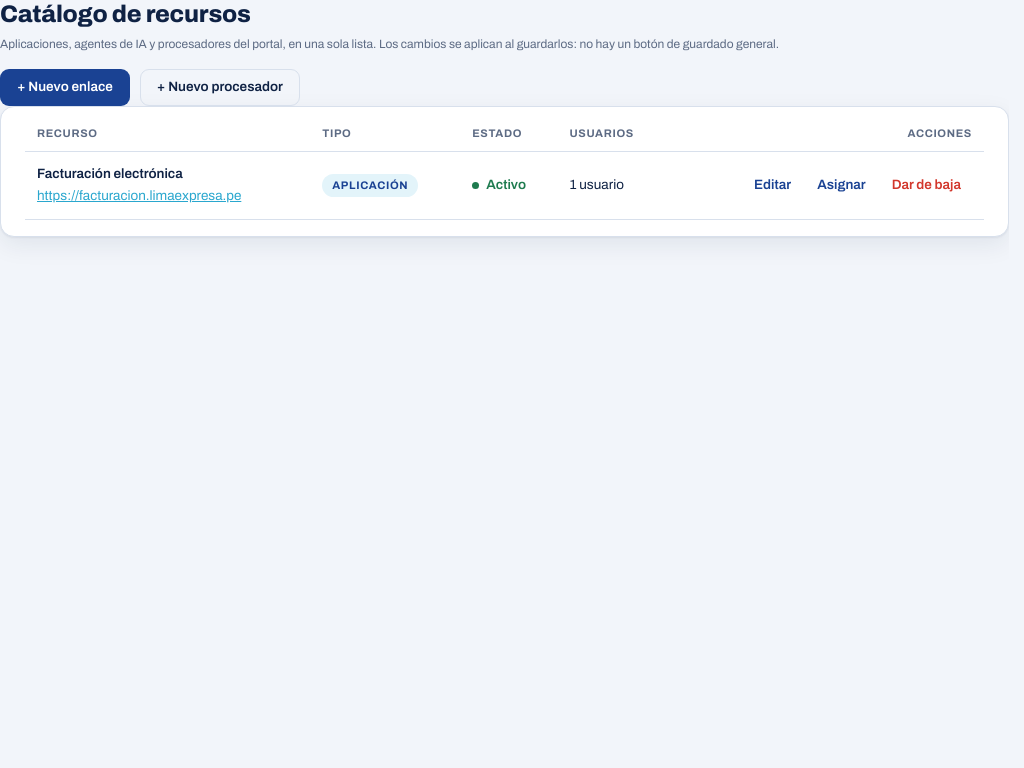
Test: <CatalogoAdmin /> › abre el diálogo «Asignar» sobre el recurso, con quien ya lo tiene
What coordinates should you click on to do the following:
click the button with aria-label "asignar facturación electrónica"
I would click on:
 (841, 185)
Its box is 806,167 -> 877,204.
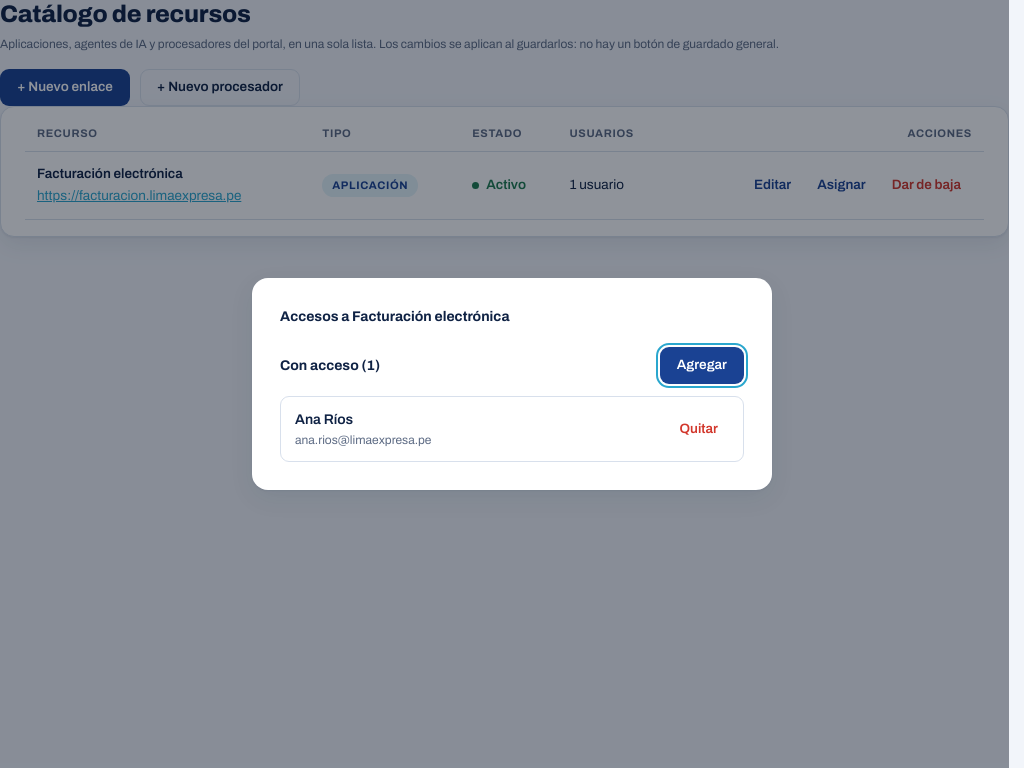
Now the text "Ana Ríos" is shown, box 295,412 -> 353,427
Now the button with aria-label "quitar el acceso de ana ríos" is shown, box 668,410 -> 729,447
